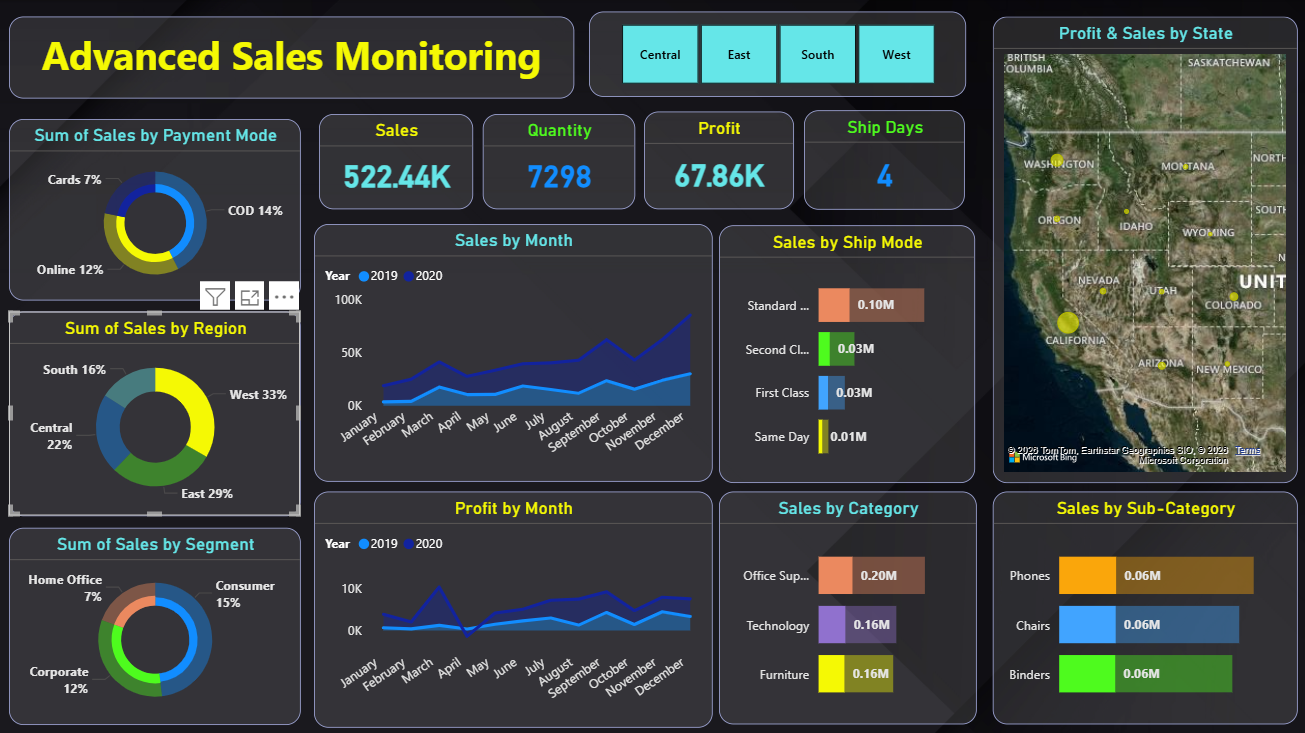

The page's visual inventory and layout, read from the dashboard file:
{"tool":"powerbi","page":{"name":"Page 1","canvas":[1280,720],"ordinal":0},"visuals":[{"type":"barChart","title":" Sales by Category","fields":{"Y":["Sum(SuperStore_Sales_Dataset.Sales)"],"Category":["SuperStore_Sales_Dataset.Category"]},"box":[700,475,248.6,225],"z":0},{"type":"barChart","title":" Sales by Sub-Category","fields":{"Y":["Sum(SuperStore_Sales_Dataset.Sales)"],"Category":["SuperStore_Sales_Dataset.Sub-Category"]},"box":[963.9,475,294.4,225],"z":1000},{"type":"barChart","title":" Sales by Ship Mode","fields":{"Y":["Sum(SuperStore_Sales_Dataset.Sales)"],"Category":["SuperStore_Sales_Dataset.Ship Mode"]},"box":[700,218.1,247.2,248.6],"z":2000},{"type":"stackedAreaChart","title":"Sales by Month","fields":{"Y":["Sum(SuperStore_Sales_Dataset.Sales)"],"Category":["SuperStore_Sales_Dataset.Order Date.Variation.Date Hierarchy.Month","SuperStore_Sales_Dataset.Order Date.Variation.Date Hierarchy.Day"],"Series":["SuperStore_Sales_Dataset.Order Date.Variation.Date Hierarchy.Year"]},"box":[308.3,216.7,384.7,248.6],"z":3000},{"type":"stackedAreaChart","title":"Profit by Month","fields":{"Category":["SuperStore_Sales_Dataset.Order Date.Variation.Date Hierarchy.Month","SuperStore_Sales_Dataset.Order Date.Variation.Date Hierarchy.Day"],"Series":["SuperStore_Sales_Dataset.Order Date.Variation.Date Hierarchy.Year"],"Y":["Sum(SuperStore_Sales_Dataset.Profit)"]},"box":[308.3,475,384.7,227.8],"z":4000},{"type":"map","title":"Profit & Sales by State","fields":{"Size":["Sum(SuperStore_Sales_Dataset.Sales)"],"Category":["SuperStore_Sales_Dataset.State"]},"box":[963.9,16.7,294.4,450],"z":5000},{"type":"donutChart","fields":{"Category":["SuperStore_Sales_Dataset.Segment"],"Y":["Sum(SuperStore_Sales_Dataset.Sales)"]},"box":[13.9,509.7,281.9,190.3],"z":6000},{"type":"donutChart","fields":{"Y":["Sum(SuperStore_Sales_Dataset.Sales)"],"Category":["SuperStore_Sales_Dataset.Payment Mode"]},"box":[13.9,115.3,281.9,175],"z":7000},{"type":"slicer","fields":{"Values":["SuperStore_Sales_Dataset.Region"]},"box":[573.8,12.5,363.8,82.5],"z":8000},{"type":"textbox","box":[13.9,16.7,545.8,79.2],"z":9000},{"type":"card","title":"Sales","fields":{"Values":["Sum(SuperStore_Sales_Dataset.Sales)"]},"box":[313.9,111.1,148.6,91.7],"z":10000},{"type":"card","title":"Quantity","fields":{"Values":["Sum(SuperStore_Sales_Dataset.Quantity)"]},"box":[472.2,111.1,147.2,91.7],"z":11000},{"type":"card","title":"Profit","fields":{"Values":["Sum(SuperStore_Sales_Dataset.Profit)"]},"box":[627.8,108.3,144.4,94.4],"z":12000},{"type":"card","title":"Ship Days","fields":{"Values":["Avg(SuperStore_Sales_Dataset.AvgDelivery)"]},"box":[781.9,106.9,155.6,95.8],"z":13000},{"type":"donutChart","fields":{"Y":["Sum(SuperStore_Sales_Dataset.Sales)"],"Category":["SuperStore_Sales_Dataset.Region"]},"box":[13.9,301.4,281.9,197.2],"z":14000}]}

Visuals, with their boxes in screenshot pixels (x1, y1, x2, y2), scaled from the page's 1280x720 canvas onto the 1305x733 screenshot:
" Sales by Category" barChart: {"left": 714, "top": 484, "right": 967, "bottom": 713}
" Sales by Sub-Category" barChart: {"left": 983, "top": 484, "right": 1283, "bottom": 713}
" Sales by Ship Mode" barChart: {"left": 714, "top": 222, "right": 966, "bottom": 475}
"Sales by Month" stackedAreaChart: {"left": 314, "top": 221, "right": 707, "bottom": 474}
"Profit by Month" stackedAreaChart: {"left": 314, "top": 484, "right": 707, "bottom": 715}
"Profit & Sales by State" map: {"left": 983, "top": 17, "right": 1283, "bottom": 475}
donutChart - SuperStore_Sales_Dataset.Segment x Sum(SuperStore_Sales_Dataset.Sales): {"left": 14, "top": 519, "right": 302, "bottom": 713}
donutChart - Sum(SuperStore_Sales_Dataset.Sales) x SuperStore_Sales_Dataset.Payment Mode: {"left": 14, "top": 117, "right": 302, "bottom": 296}
slicer - SuperStore_Sales_Dataset.Region: {"left": 585, "top": 13, "right": 956, "bottom": 97}
textbox: {"left": 14, "top": 17, "right": 571, "bottom": 98}
"Sales" card: {"left": 320, "top": 113, "right": 472, "bottom": 206}
"Quantity" card: {"left": 481, "top": 113, "right": 631, "bottom": 206}
"Profit" card: {"left": 640, "top": 110, "right": 787, "bottom": 206}
"Ship Days" card: {"left": 797, "top": 109, "right": 956, "bottom": 206}
donutChart - Sum(SuperStore_Sales_Dataset.Sales) x SuperStore_Sales_Dataset.Region: {"left": 14, "top": 307, "right": 302, "bottom": 508}
